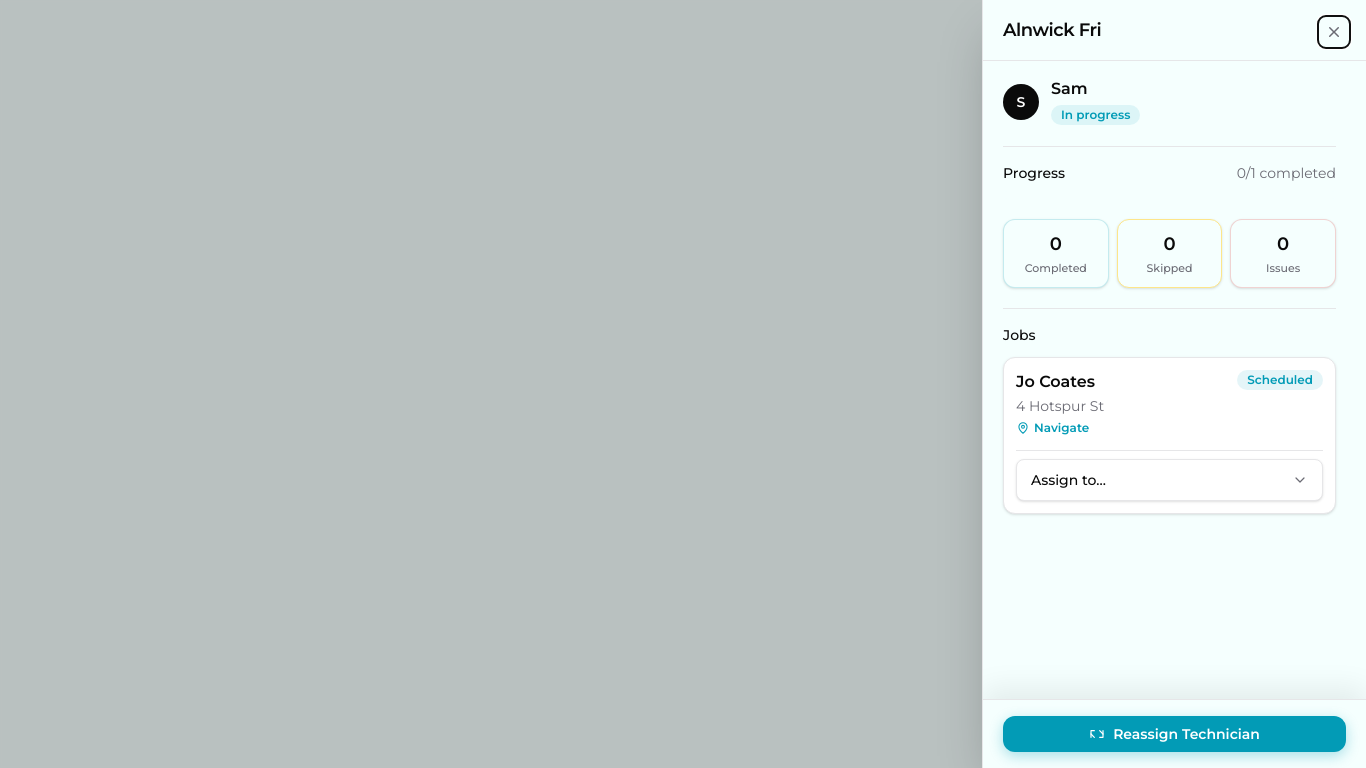
Test case: single-visit assign (Today’s Work) › shows the server error inline
Click the button with aria-label "Assign this visit" at (1069, 480), box [1016,458,1323,500]
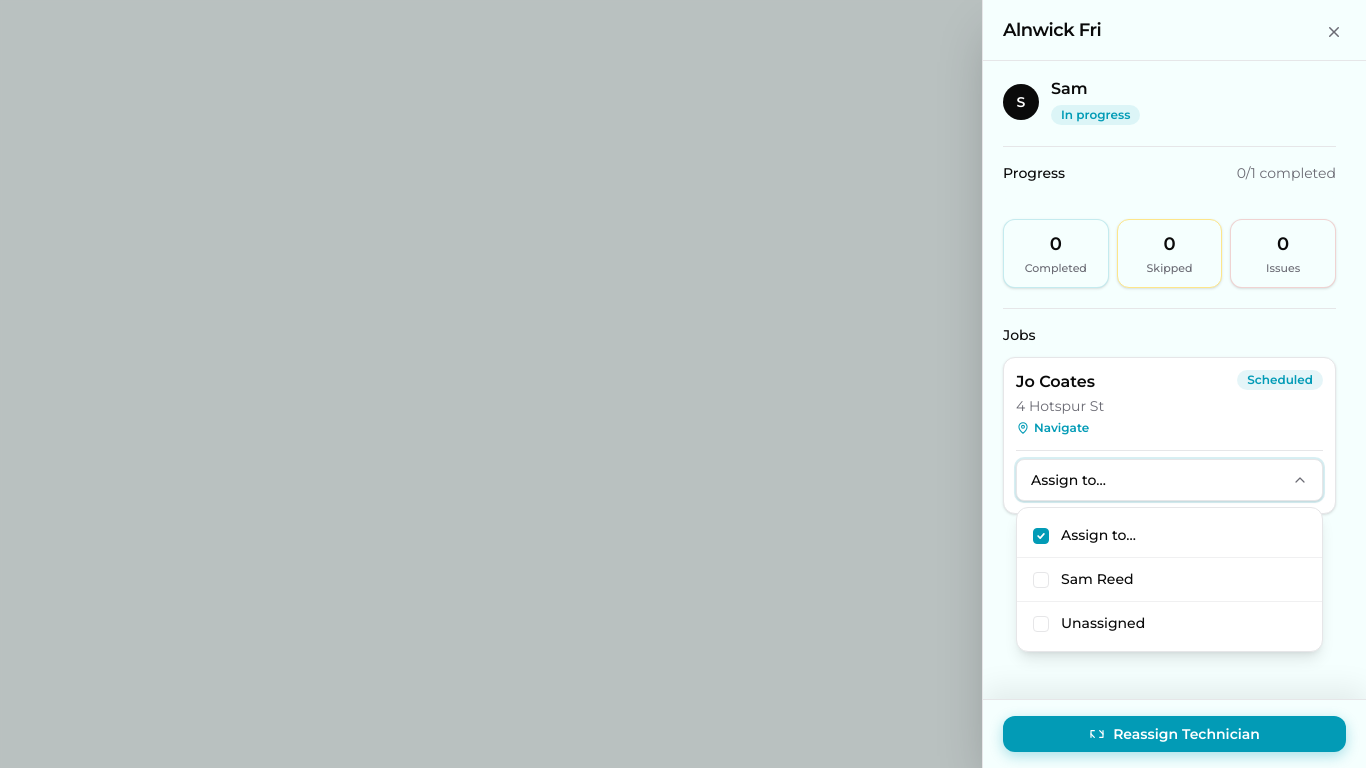
Click the option "Sam Reed" at (1097, 579), box [1017,558,1322,602]
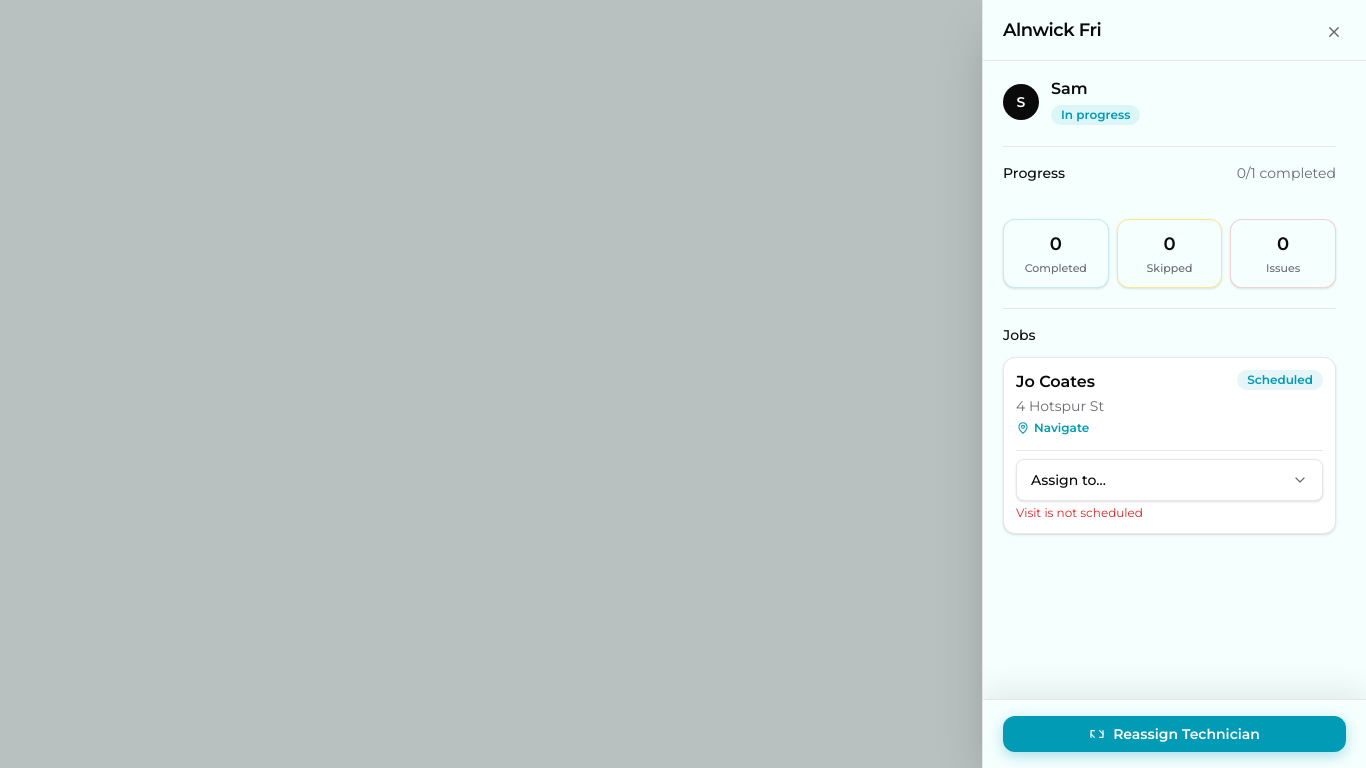
Check: the text "Visit is not scheduled" is shown, box [1016,504,1143,520]
